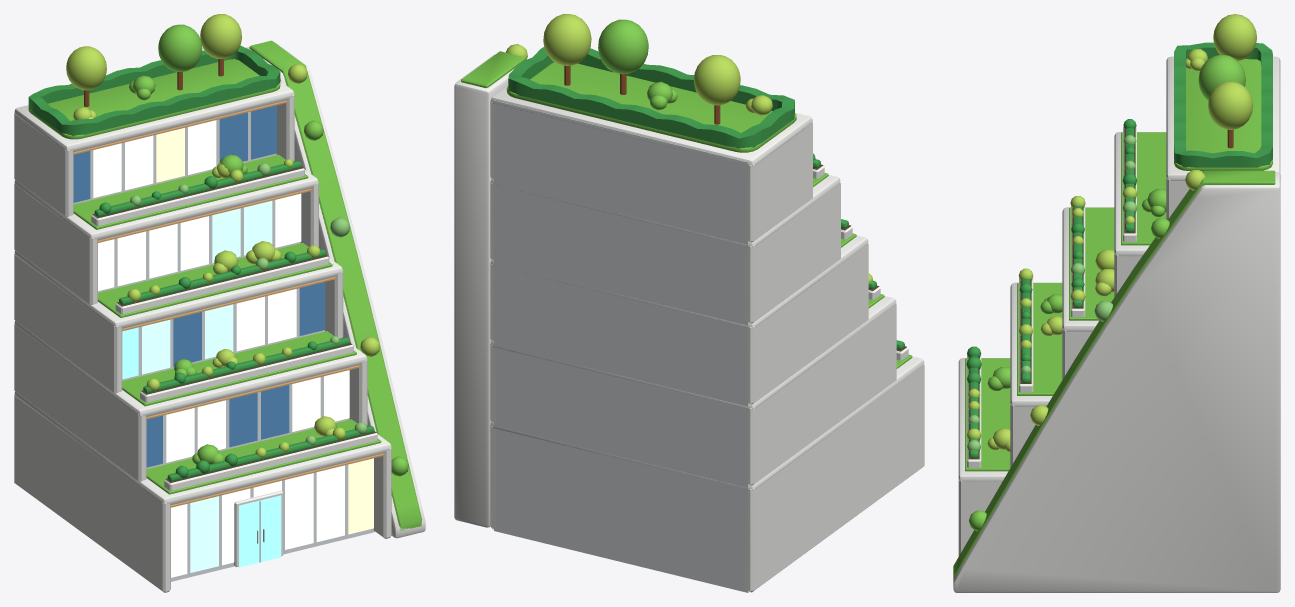
The model's file is predio_terracos_escadaria.glb.
The picture shows the model from 3 angles, left to right: view 1: azimuth 30°, elevation 25°; view 2: azimuth 150°, elevation 25°; view 3: azimuth 270°, elevation 25°; orthographic projection. The views are drawn at different scales.
Visible parts, largest first — view 1: predio_terracos_escadaria; view 2: predio_terracos_escadaria; view 3: predio_terracos_escadaria.
Part boxes in pixels (<box>): predio_terracos_escadaria: <box>14,14,425,592</box>; predio_terracos_escadaria: <box>454,14,924,592</box>; predio_terracos_escadaria: <box>953,14,1280,592</box>.
Bounding box in the file's own units: 12.4 × 20.16 × 12.6.
Materials: 7 (1 with a texture image).
